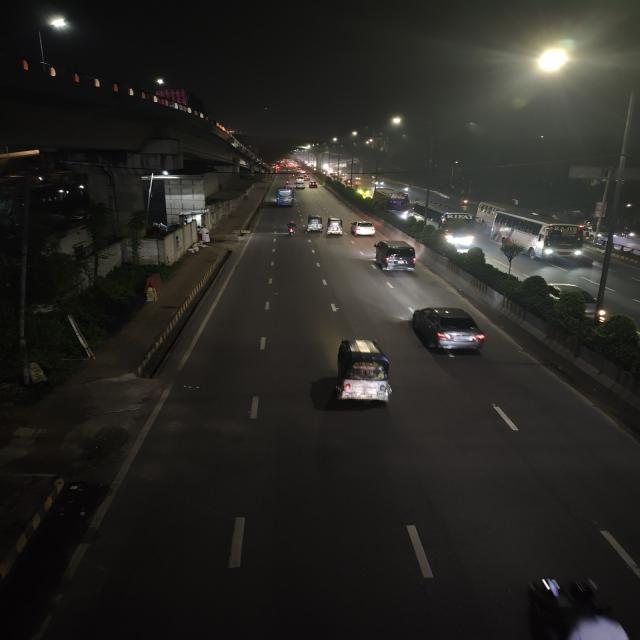bus: (522, 211, 586, 267), (412, 203, 478, 249), (383, 193, 412, 220), (274, 187, 296, 207)
car: (406, 303, 492, 359), (371, 238, 420, 276), (348, 219, 378, 236), (306, 180, 319, 190), (294, 182, 306, 190)
cng: (325, 336, 406, 410), (326, 215, 344, 238), (305, 213, 323, 234)
motorcycle: (283, 219, 299, 237)
truck: (383, 193, 412, 220)
